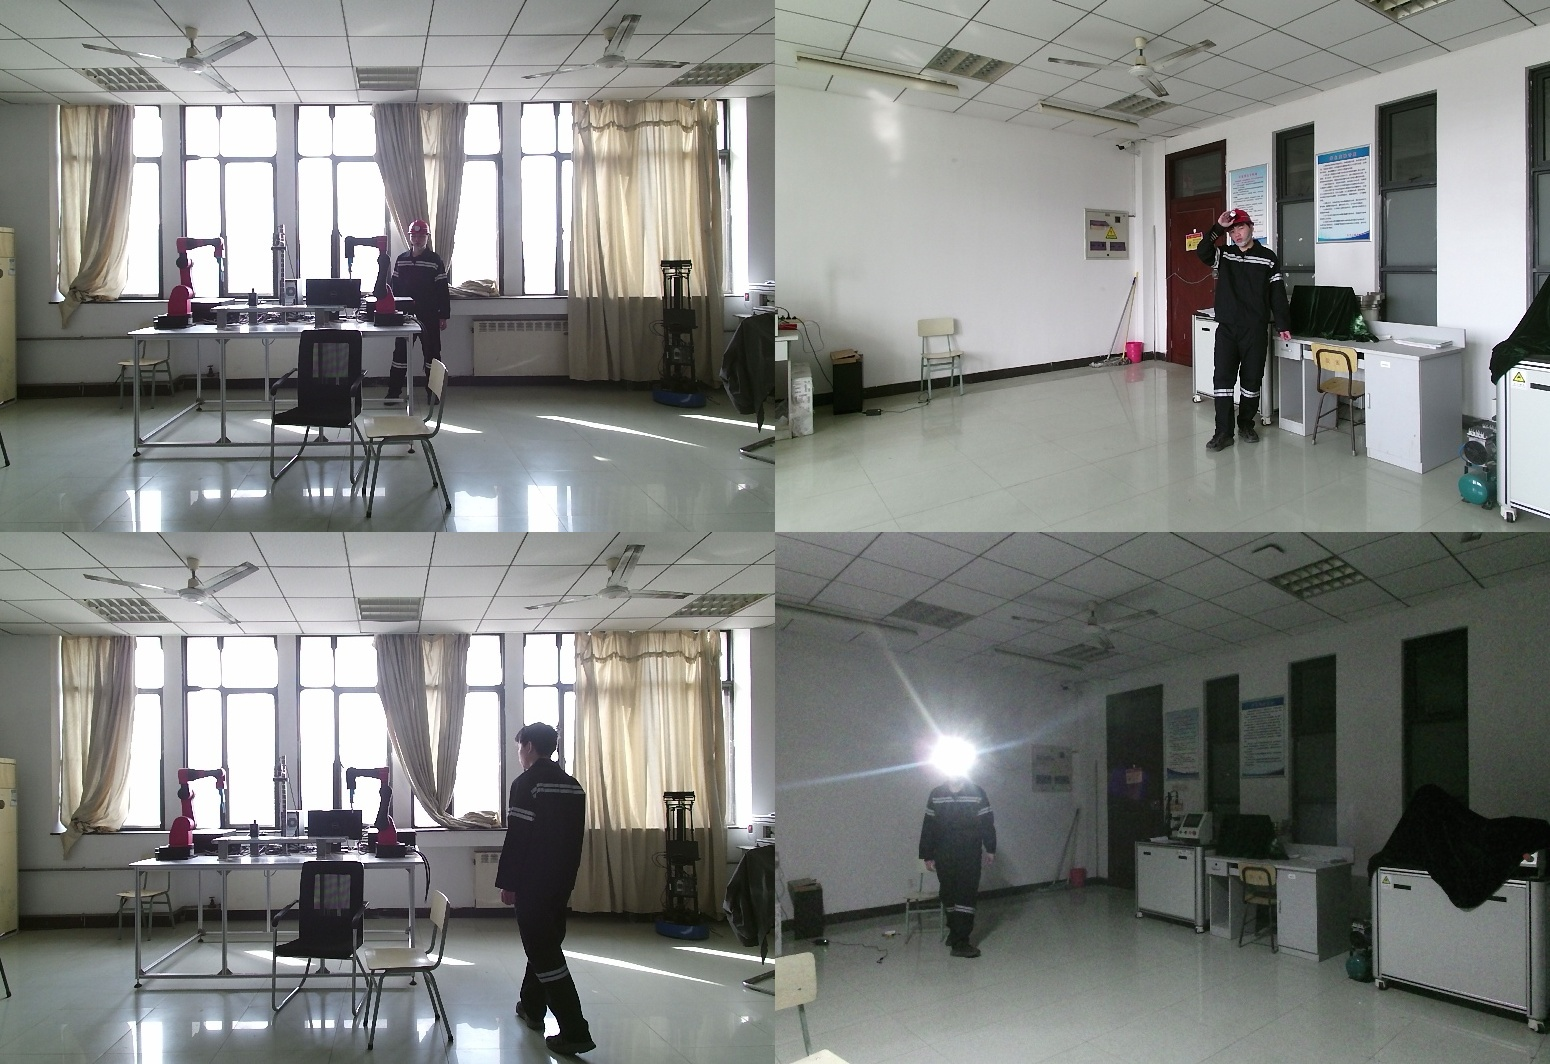person: (499, 726, 608, 1055), (1200, 210, 1298, 450), (915, 752, 996, 967), (387, 220, 455, 420)
